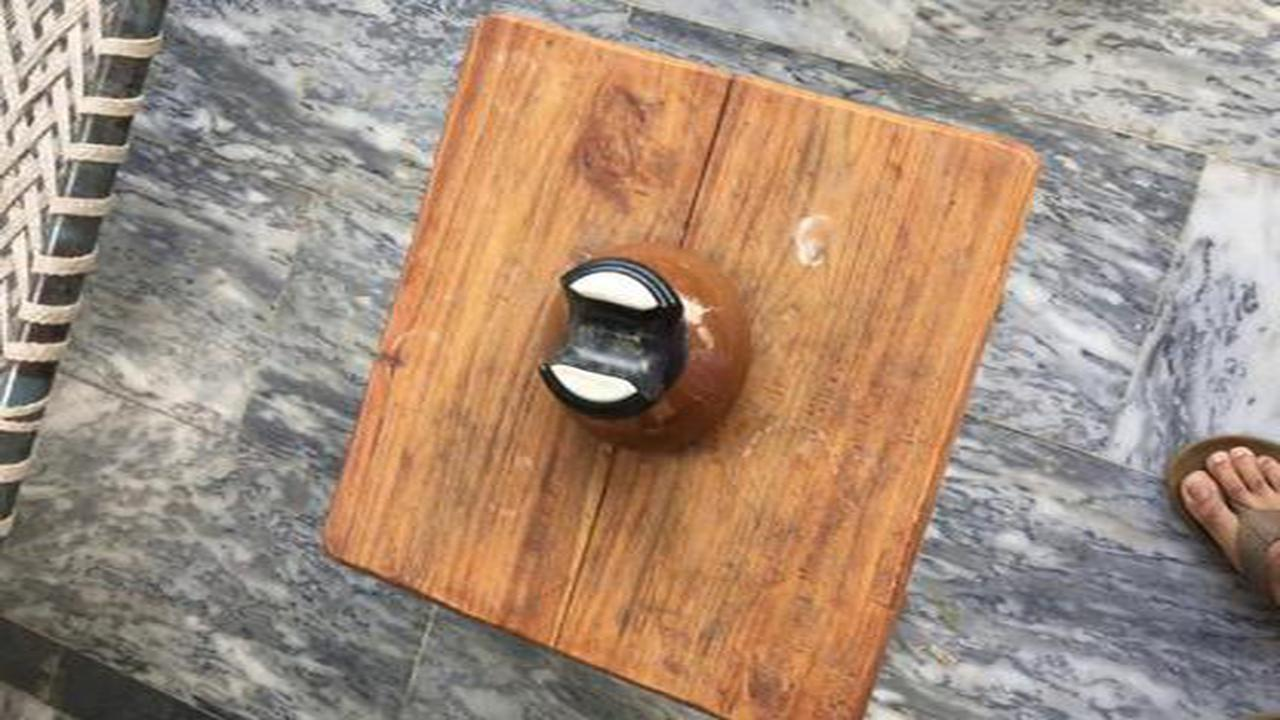insulator_pin: (514, 229, 776, 468)
